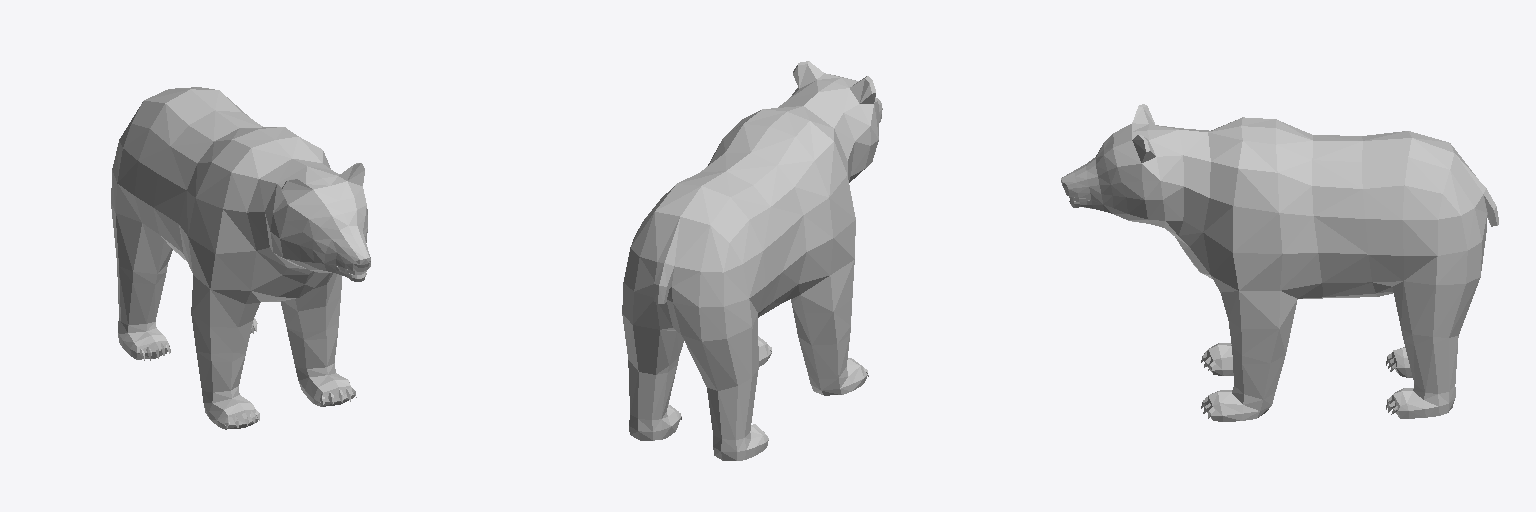
Rendered from bear-obj.obj.
The picture shows the model from 3 angles: view 1: azimuth 30°, elevation 25°; view 2: azimuth 150°, elevation 25°; view 3: azimuth 270°, elevation 25°; orthographic projection.
Visible parts, largest first — view 1: bear____N; view 2: bear____N; view 3: bear____N.
Part boxes in pixels (bbox=[...]): bear____N: bbox=[111, 87, 370, 429]; bear____N: bbox=[622, 61, 882, 460]; bear____N: bbox=[1061, 104, 1498, 421].
Size of the model in its own units: 10.24 by 19.71 by 28.84.